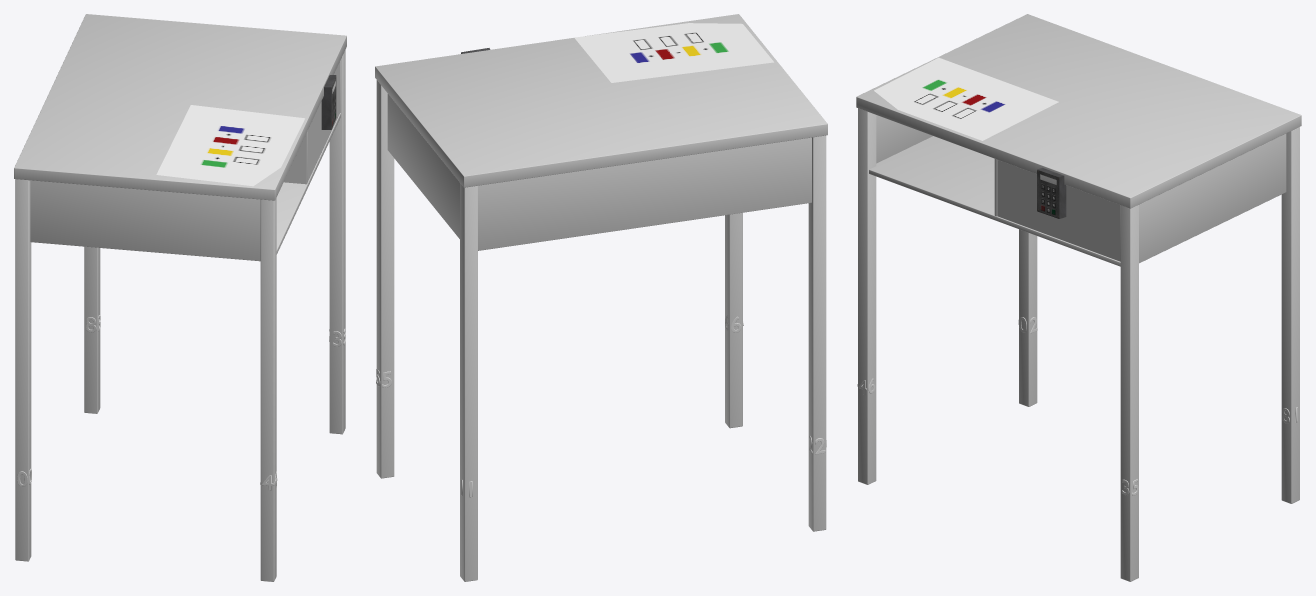
Rendered from table_mergelaew.fbx.
3 views of the same model, side by side, from view 1: azimuth 30°, elevation 25°; view 2: azimuth 150°, elevation 25°; view 3: azimuth 270°, elevation 25° (orthographic). The views are drawn at different scales.
Parts seen in each view (by area): view 1: Cube.001, Cube.004, hint, Cube.011, Cube.008, Cube.012, Cube, Cube.010, Cube.002, Cube.006; view 2: Cube.001, Cube.005, hint, Cube.008, Cube, Cube.012, Cube.003, Cube.011; view 3: Cube.001, Cube.003, hint, Cube.010, Cube.012, Cube.011, Cube.002, Cube, Cube.008, Cube.004.
Boxes of the visible parts, left/top/right/bottom form: Cube.001: left=14, top=14, right=346, bottom=200; Cube.004: left=30, top=180, right=260, bottom=261; hint: left=156, top=105, right=304, bottom=186; Cube.011: left=260, top=198, right=276, bottom=581; Cube.008: left=15, top=179, right=31, bottom=561; Cube.012: left=329, top=50, right=345, bottom=434; Cube: left=84, top=246, right=100, bottom=413; Cube.010: left=307, top=61, right=340, bottom=181; Cube.002: left=276, top=113, right=340, bottom=254; Cube.006: left=284, top=131, right=307, bottom=184; Cube.001: left=375, top=14, right=827, bottom=187; Cube.005: left=478, top=137, right=811, bottom=250; hint: left=574, top=23, right=773, bottom=82; Cube.008: left=808, top=135, right=826, bottom=531; Cube: left=460, top=183, right=477, bottom=581; Cube.012: left=376, top=80, right=394, bottom=478; Cube.003: left=387, top=94, right=459, bottom=238; Cube.011: left=725, top=212, right=742, bottom=428; Cube.001: left=856, top=14, right=1301, bottom=208; Cube.003: left=1139, top=133, right=1286, bottom=263; hint: left=874, top=57, right=1058, bottom=140; Cube.010: left=997, top=159, right=1120, bottom=261; Cube.012: left=1120, top=205, right=1138, bottom=581; Cube.011: left=858, top=108, right=876, bottom=484; Cube.002: left=869, top=136, right=1120, bottom=266; Cube: left=1281, top=127, right=1299, bottom=503; Cube.008: left=1019, top=229, right=1037, bottom=406; Cube.004: left=876, top=115, right=932, bottom=163.
Bounding box in the file's own units: 83.19 × 81.95 × 85.07.
